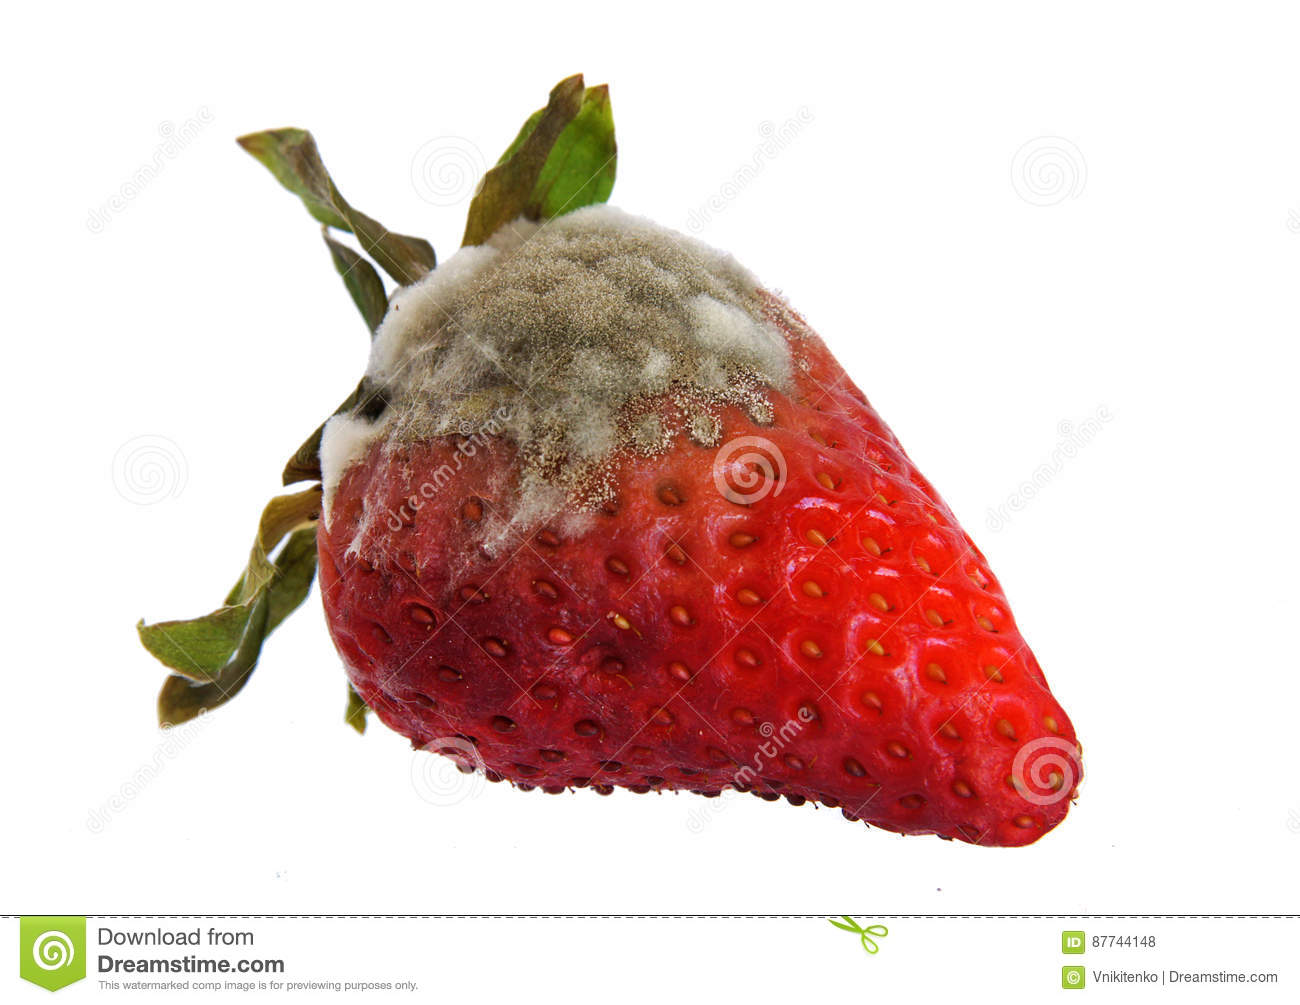damaged_strawberry: (302, 215, 1069, 845)
